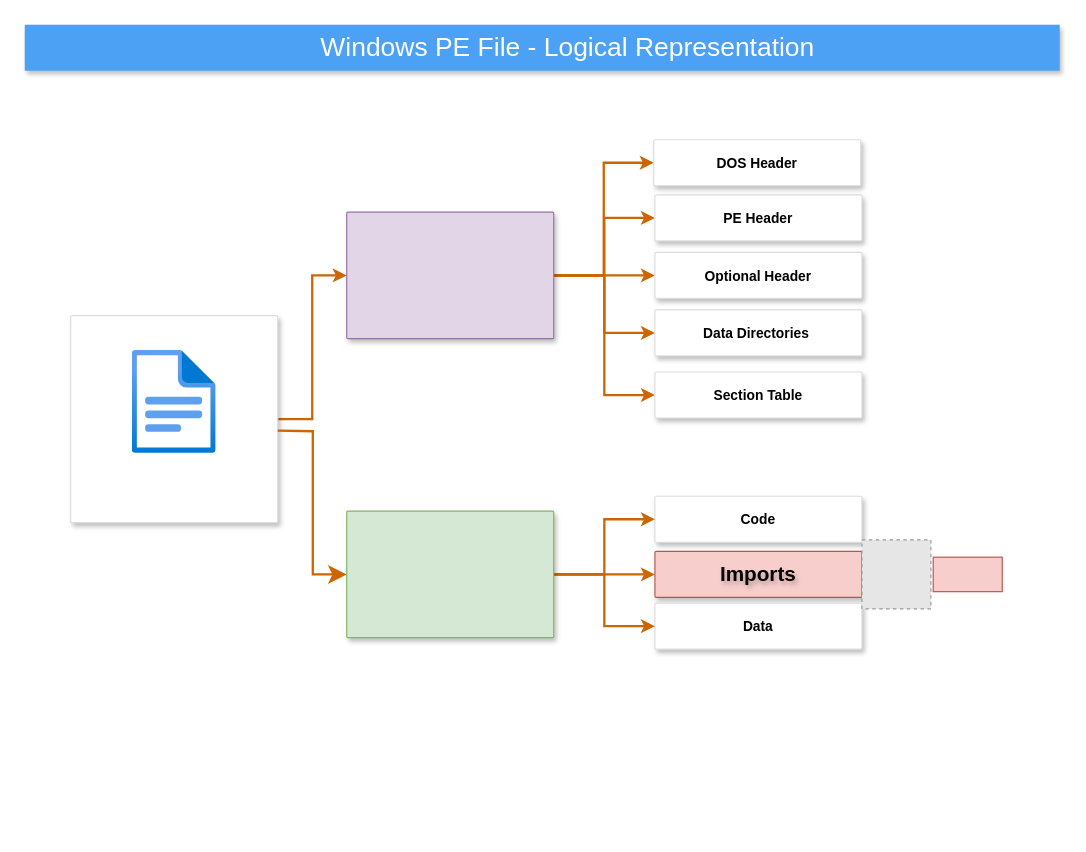
The diagram is 1086 pixels wide and 852 high, and some of its shapes have lost their labels. Grey dashed boxes stand in for pictures. Each missing label, with the centre of its shape:
"Headers" belongs at point (451, 276).
"IMPHash" belongs at point (967, 574).
"Sections" belongs at point (451, 575).
"Windows EXE" belongs at point (174, 401).
